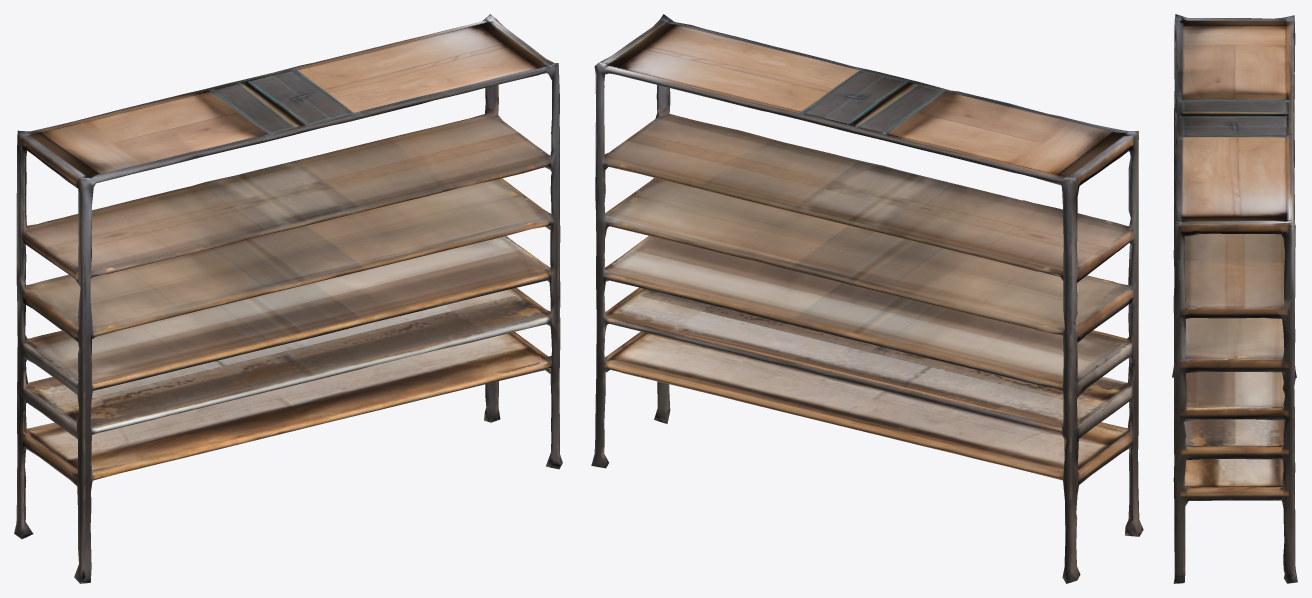
3 renders of one model, left to right at view 1: azimuth 30°, elevation 25°; view 2: azimuth 150°, elevation 25°; view 3: azimuth 270°, elevation 25°, orthographic. The views are drawn at different scales.
Parts seen in each view (by area): view 1: Mesh1.0; view 2: Mesh1.0; view 3: Mesh1.0.
Boxes of the visible parts, <box> form: Mesh1.0: <box>14,14,562,583</box>; Mesh1.0: <box>591,14,1143,583</box>; Mesh1.0: <box>1172,14,1297,583</box>.
Size of the model in its own units: 201 by 161 by 50.71.
1 material, 1 textured.
